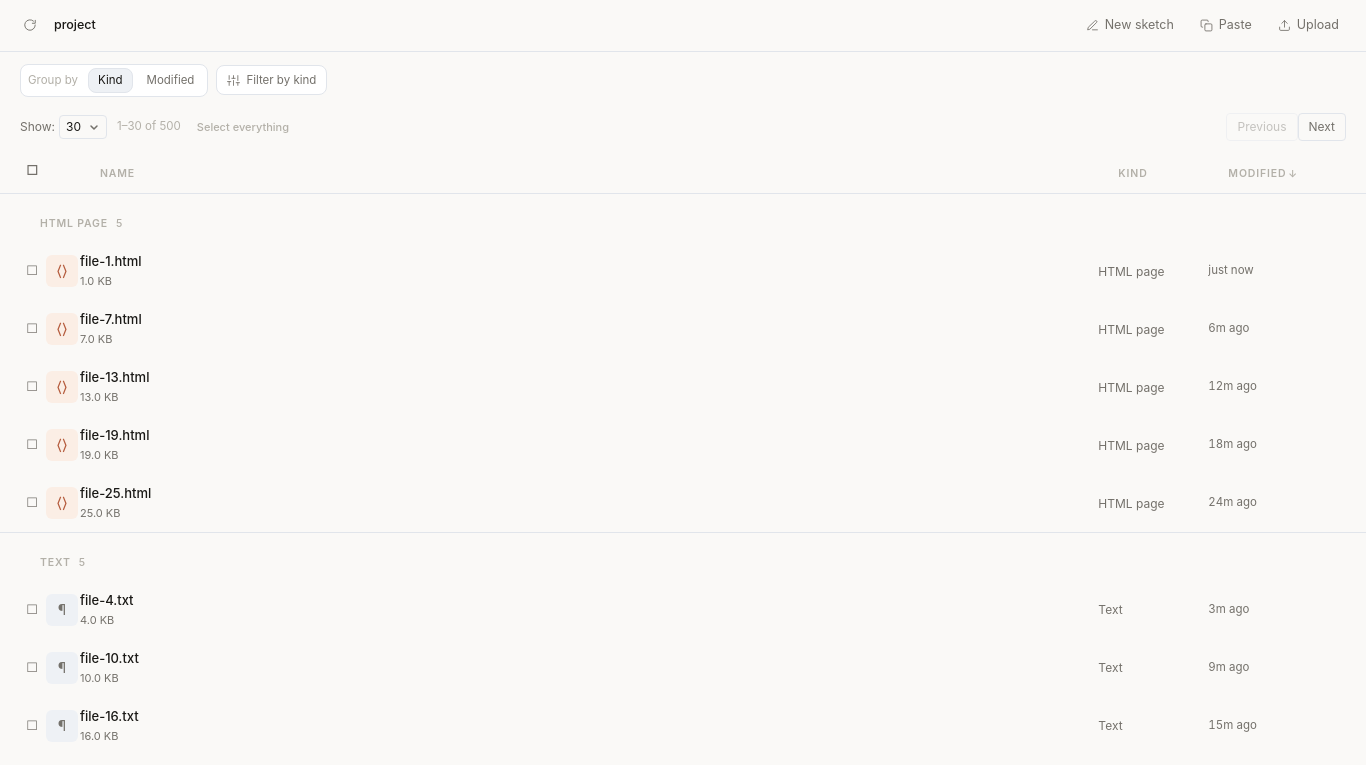
Test: DesignFilesPanel large-list regression › navigates pages with Next button and updates row content
Expected: the row with class "df-file-row" shows "file-1", left=80, top=252, right=142, bottom=290
Click the button with class "df-page-btn" showing "Next" at (1322, 127), box left=1298, top=113, right=1346, bottom=141
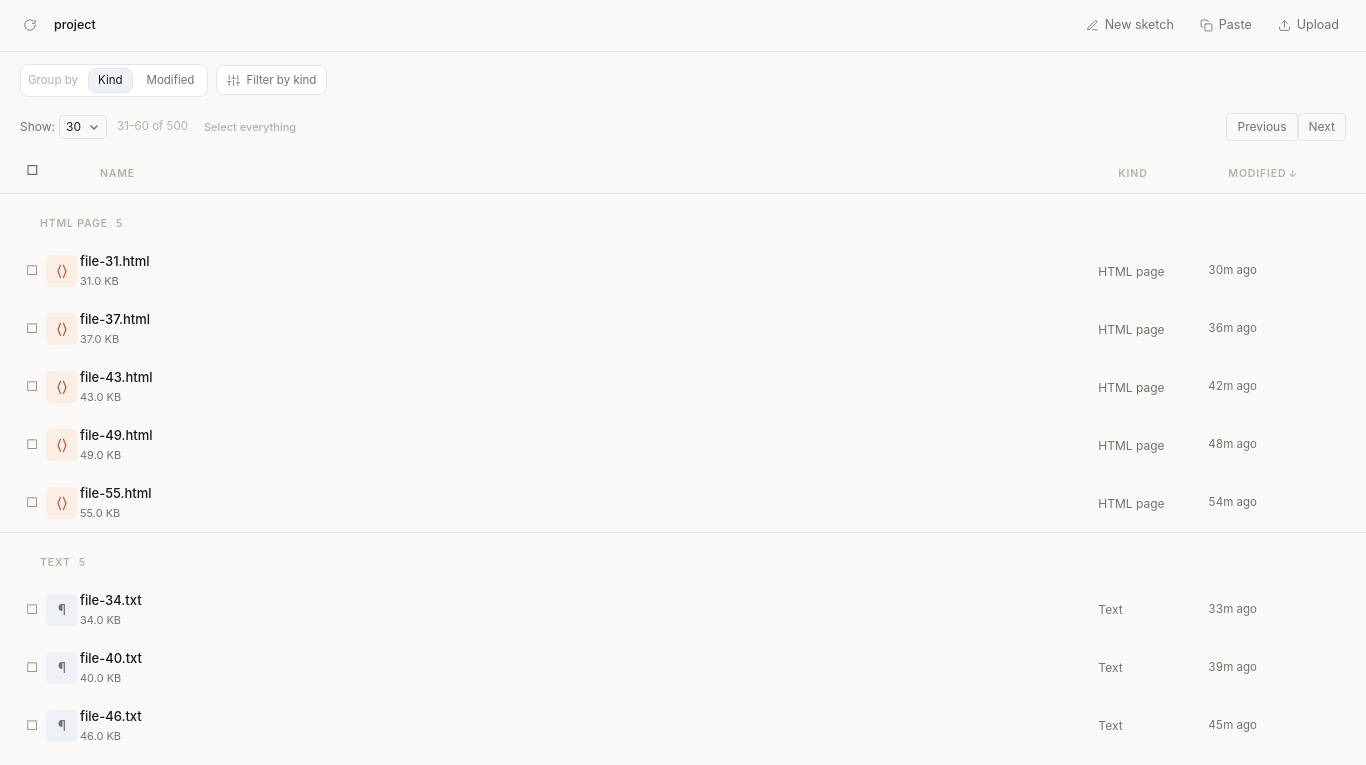
Expected: the row with class "df-file-row" shows "file-31", left=80, top=252, right=150, bottom=290
